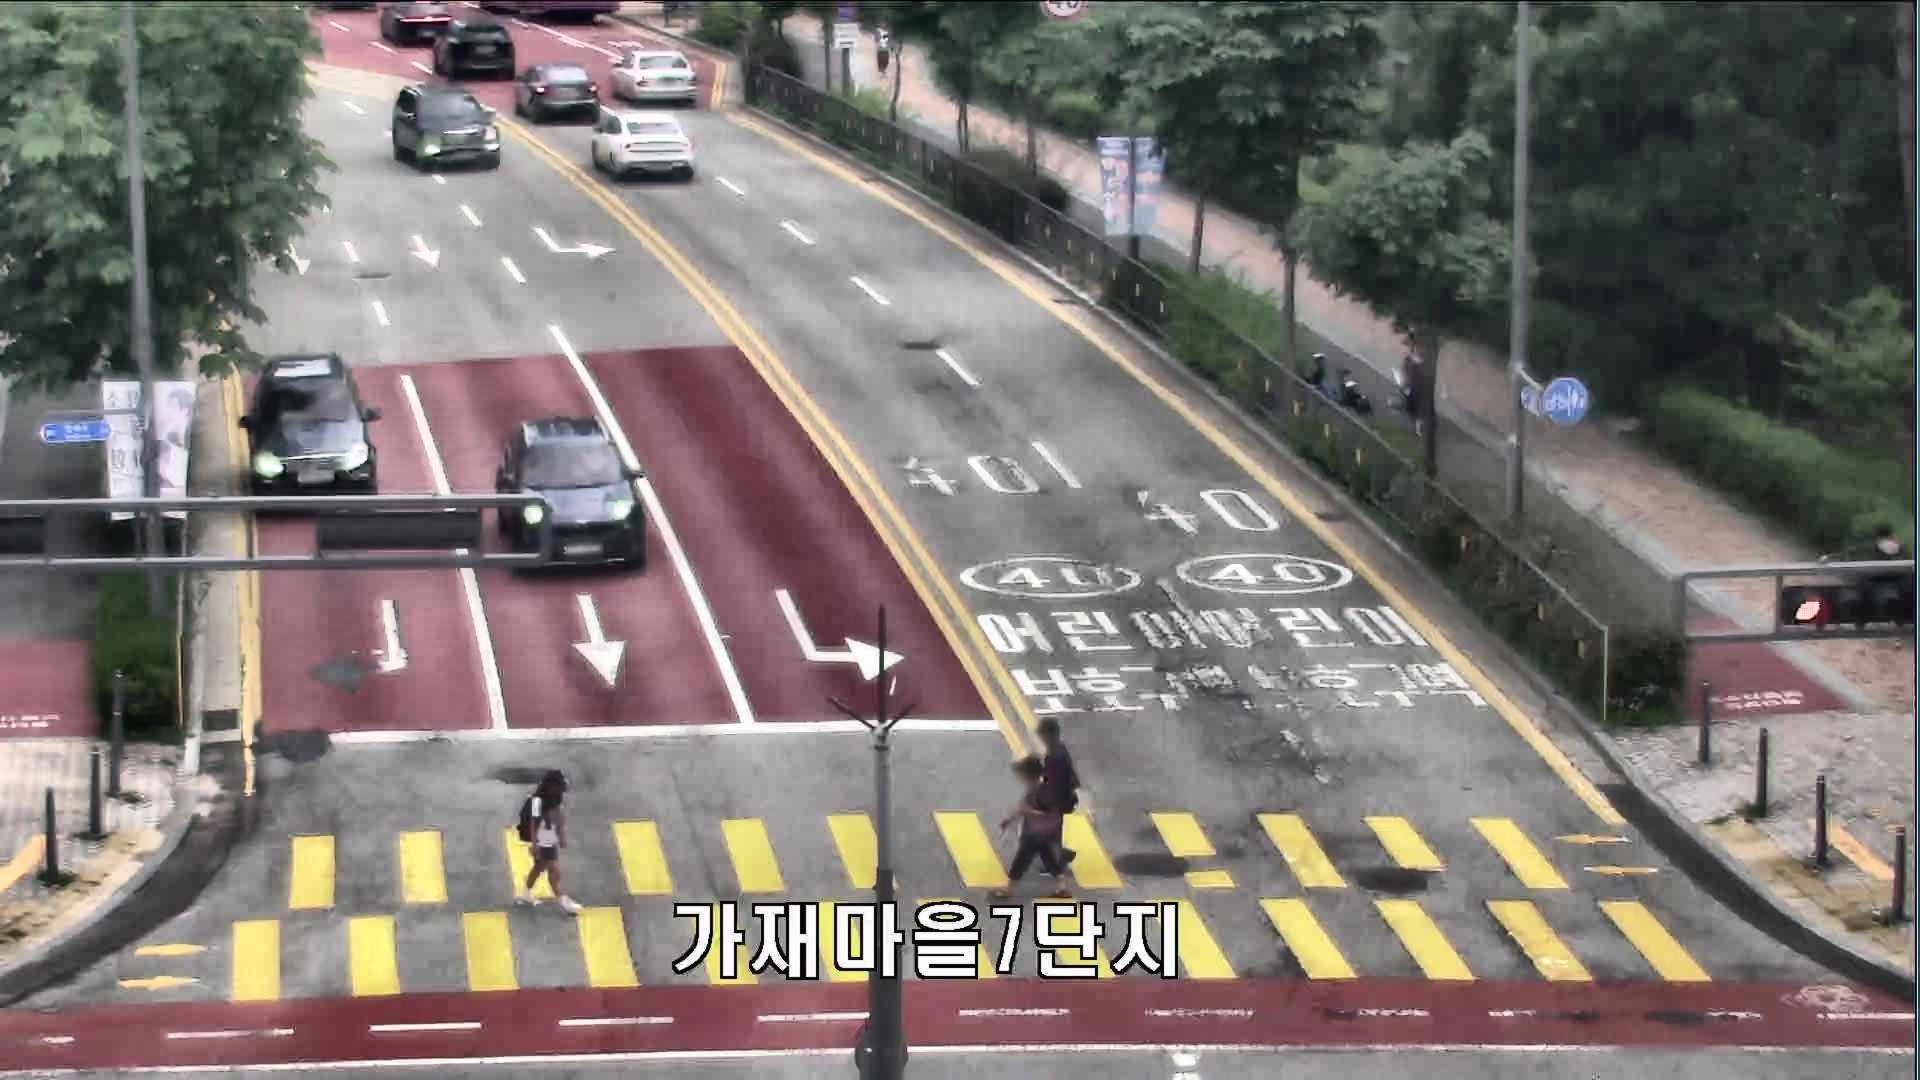crosswalk: (502, 765, 587, 920), (988, 756, 1073, 901), (1031, 713, 1083, 878)
sidewalk: (873, 22, 891, 78)
